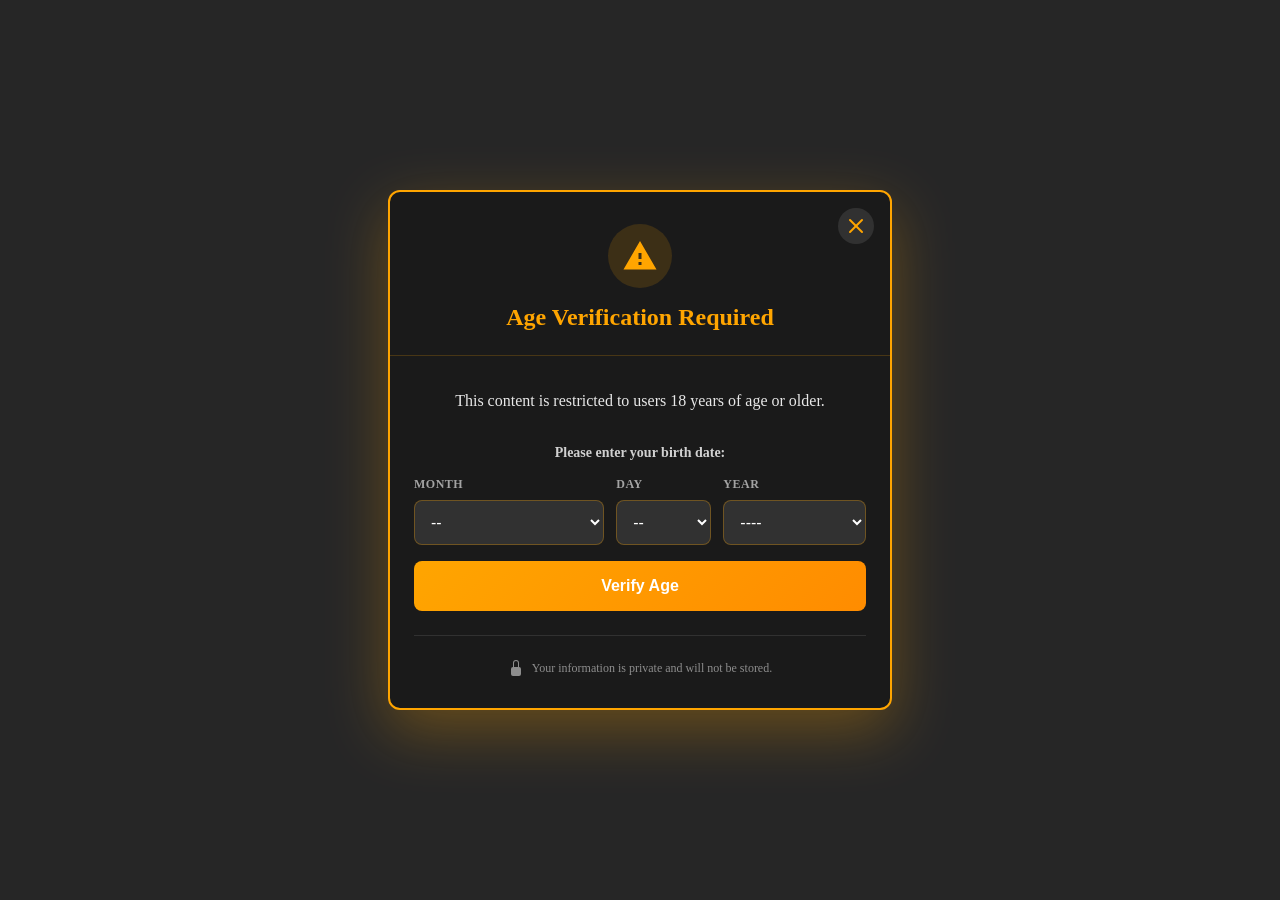
Scenario: AgeGateComponent › validation › shows the invalid-day error in the DOM for 31 February
Select "February" in the dropdown with id "birth-month" at {"x": 509, "y": 523}, box left=414, top=500, right=604, bottom=545
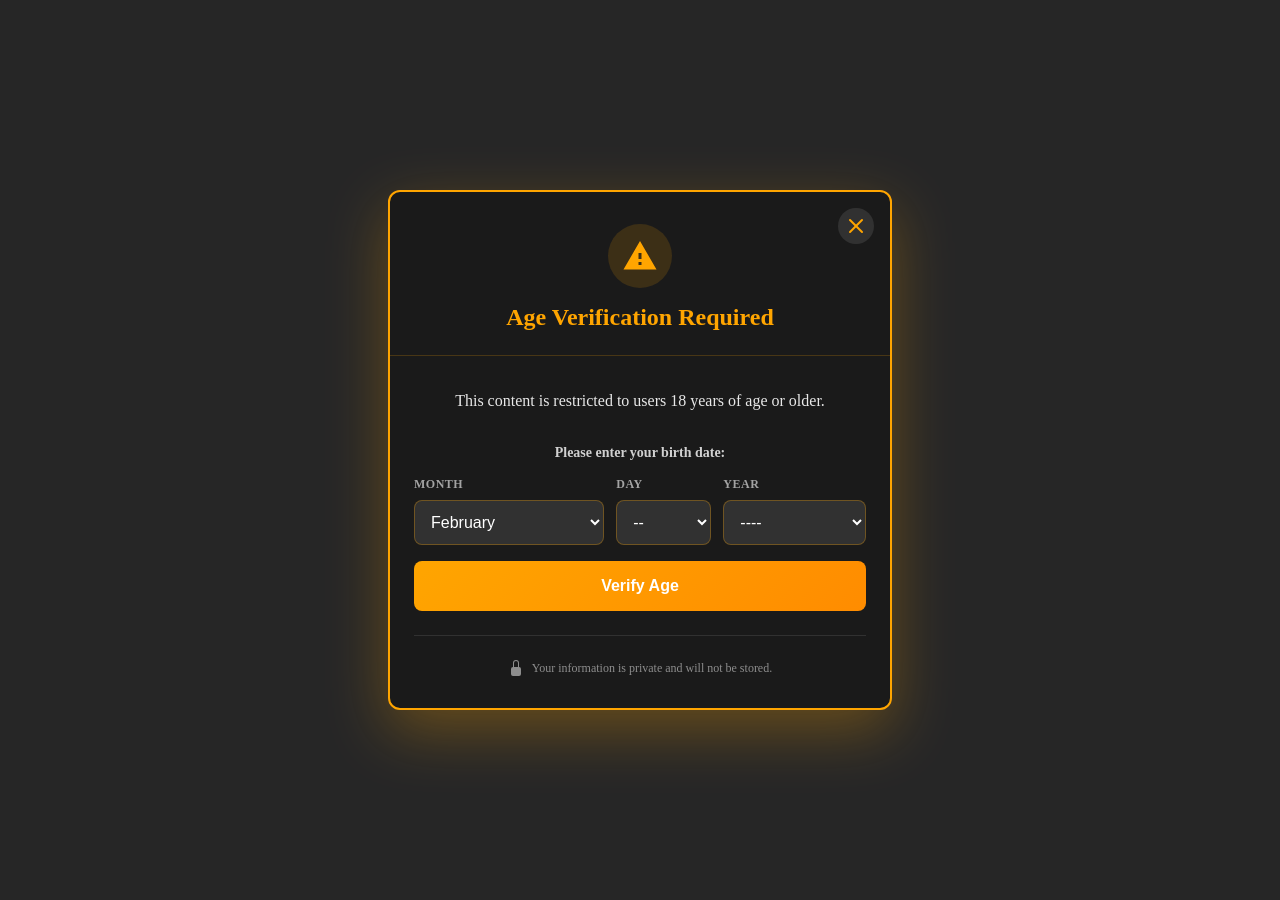
Select "31" in the dropdown with id "birth-day" at {"x": 664, "y": 523}, box left=616, top=500, right=711, bottom=545
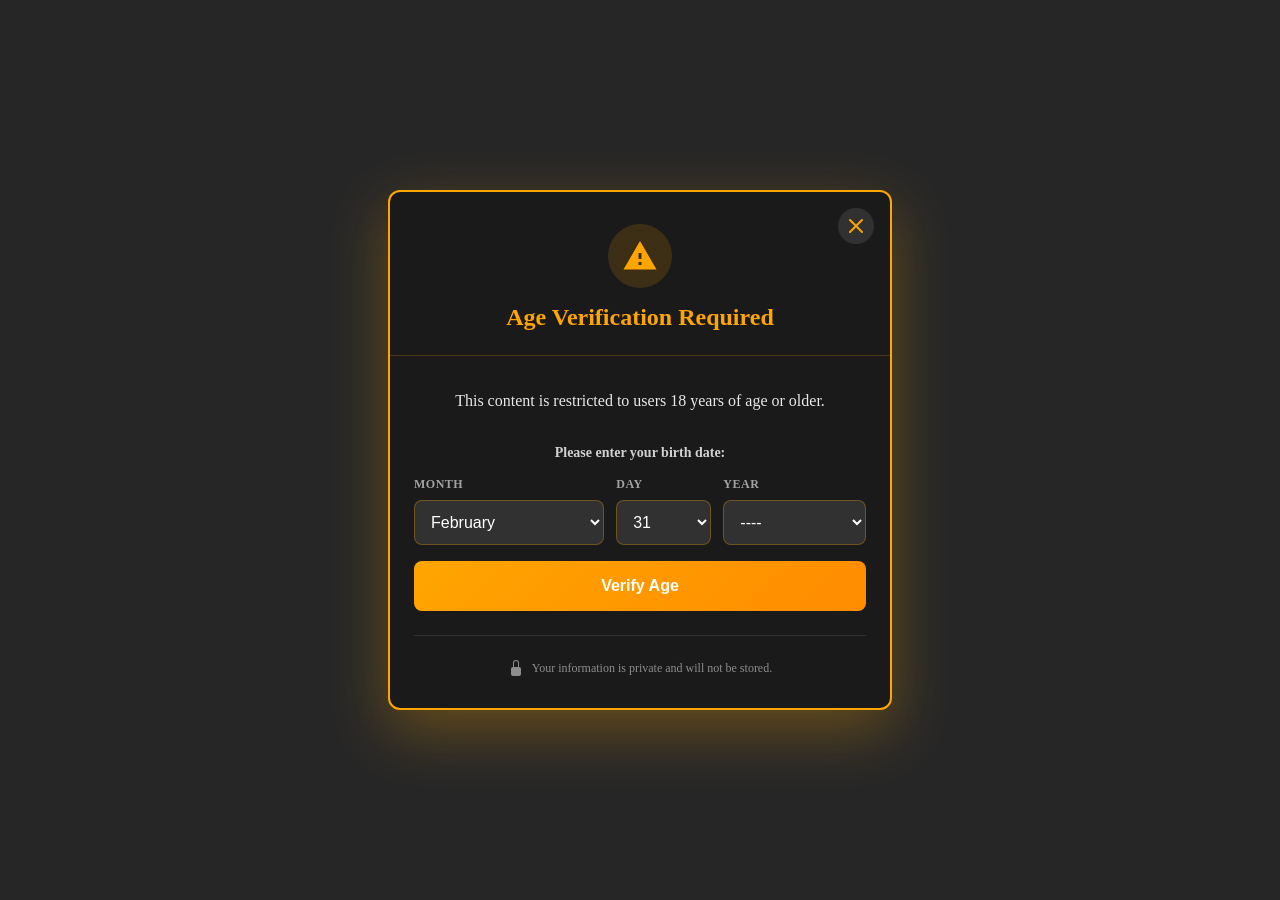
Select "1990" in the dropdown with id "birth-year" at {"x": 795, "y": 523}, box left=723, top=500, right=866, bottom=545
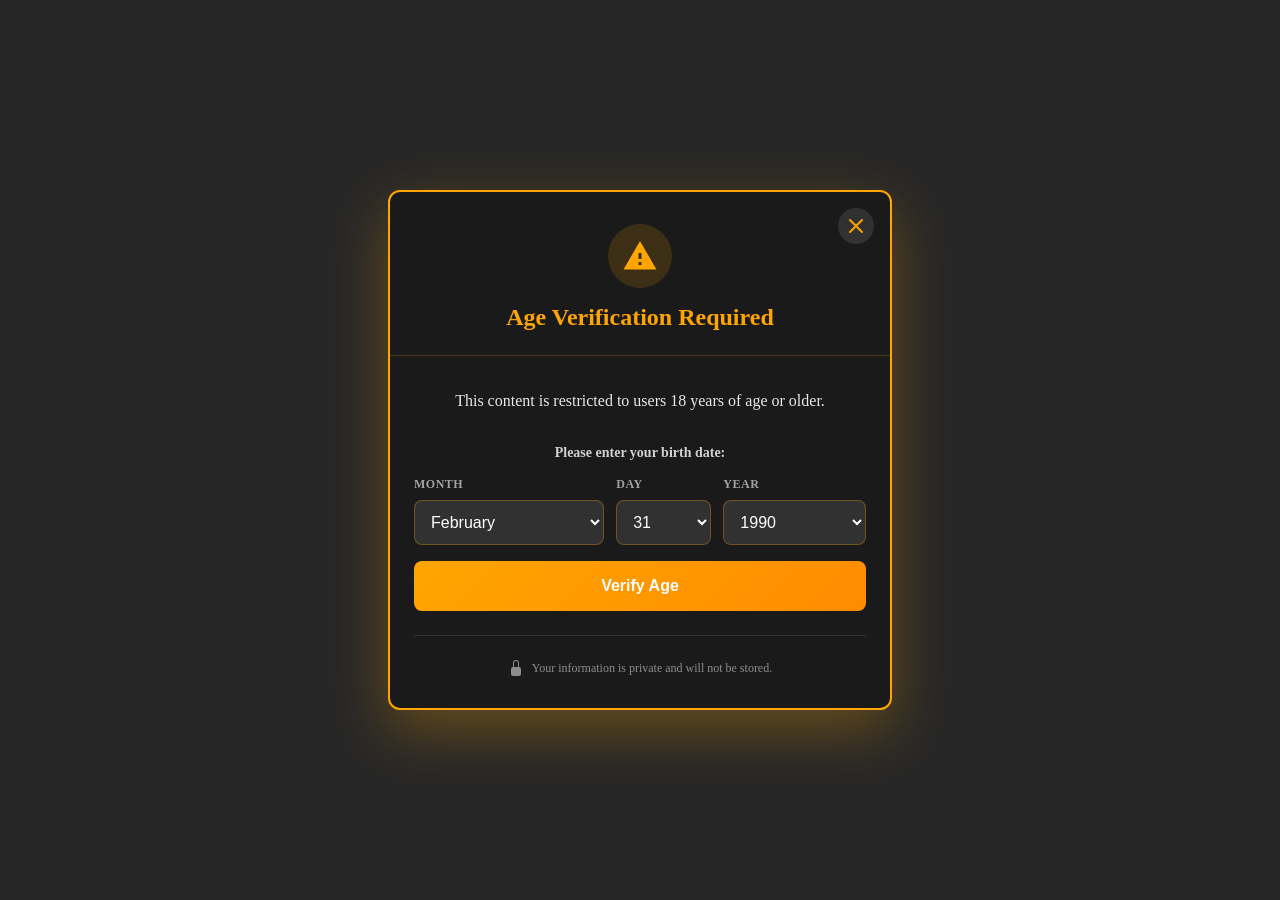
Click the button "Verify Age" at {"x": 640, "y": 586}, box left=414, top=561, right=866, bottom=611
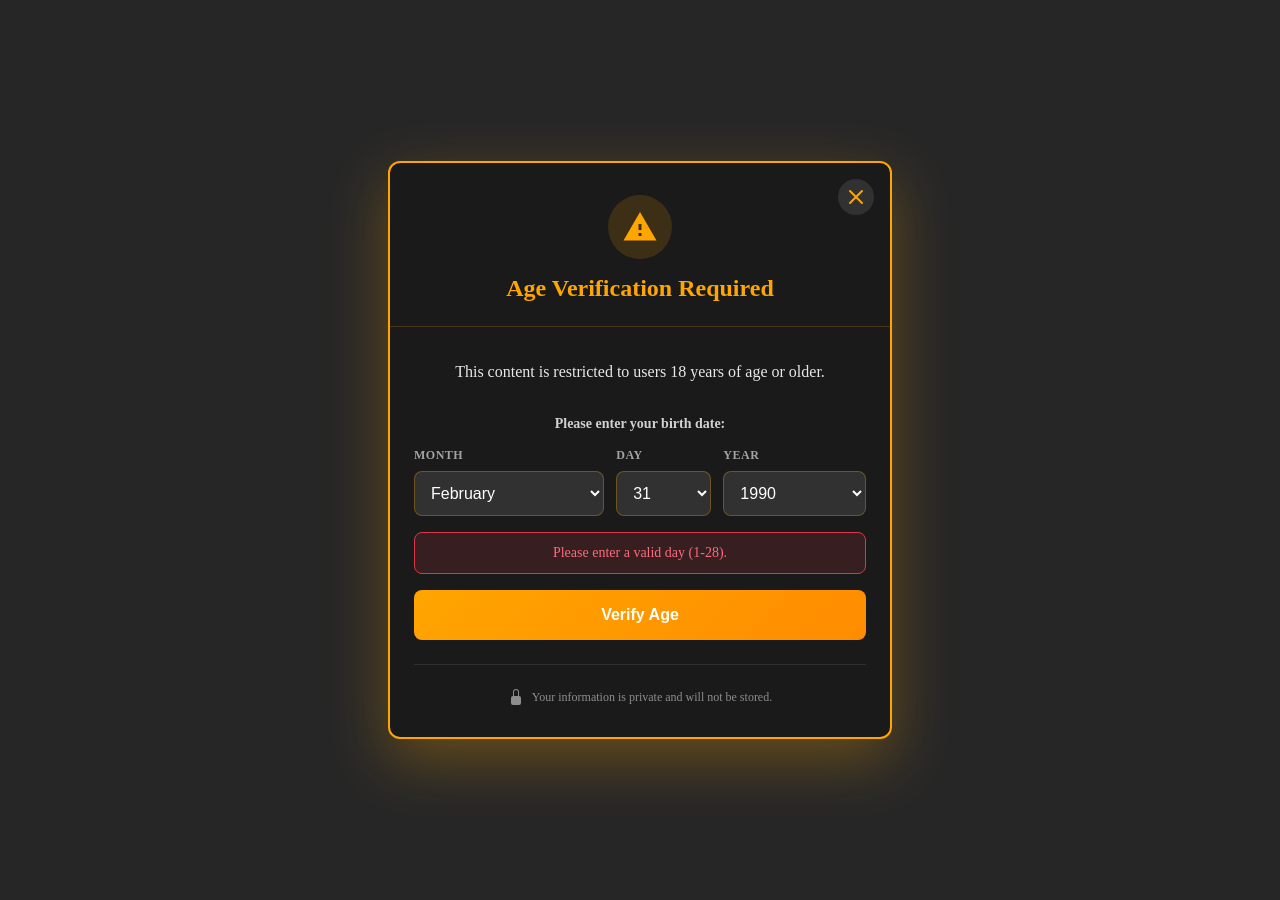
Expected: the message with class "error-message" reads "Please enter a valid day (1-28).", left=553, top=545, right=727, bottom=560
